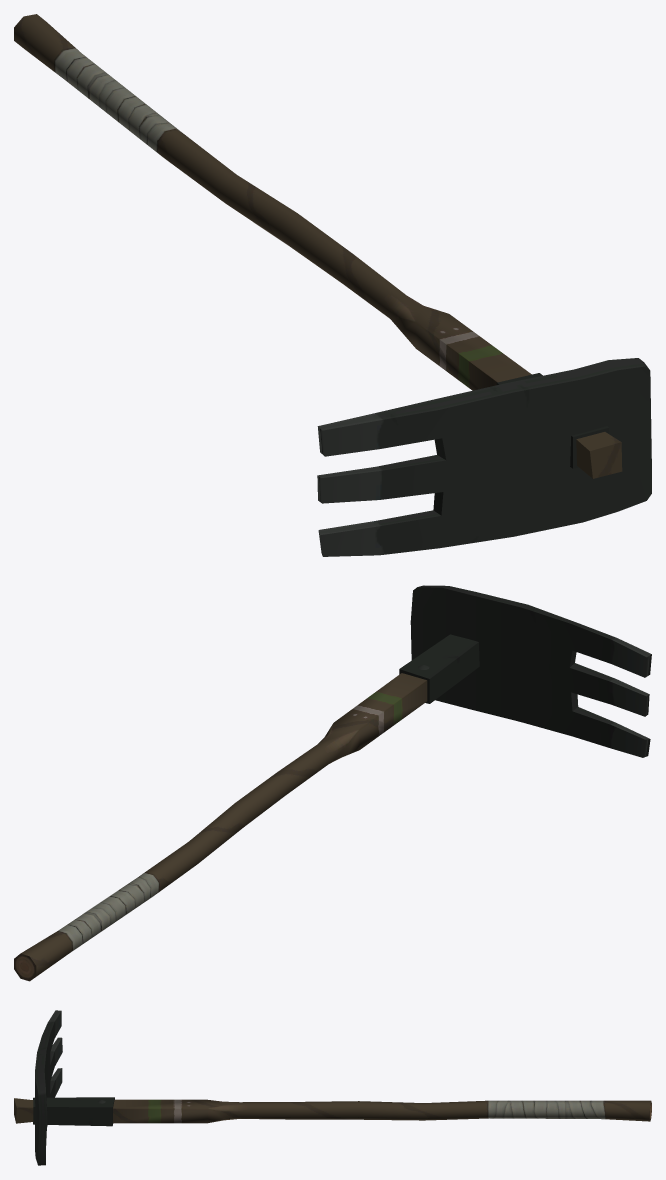
The model's file is Weapon_Lsword_045.glb.
The picture shows the model from 3 angles, top to bottom: view 1: azimuth 30°, elevation 25°; view 2: azimuth 150°, elevation 25°; view 3: azimuth 270°, elevation 25°; orthographic projection. The views are drawn at different scales.
Visible parts, largest first — view 1: Weapon_Lsword_045; view 2: Weapon_Lsword_045; view 3: Weapon_Lsword_045.
Boxes of the visible parts, x1,y1,x2,y2 form: Weapon_Lsword_045: (14, 14, 651, 556); Weapon_Lsword_045: (14, 585, 651, 981); Weapon_Lsword_045: (14, 1010, 651, 1165).
Bounding box in the file's own units: 0.5555 × 0.2493 × 1.79.
1 material, 1 textured.
